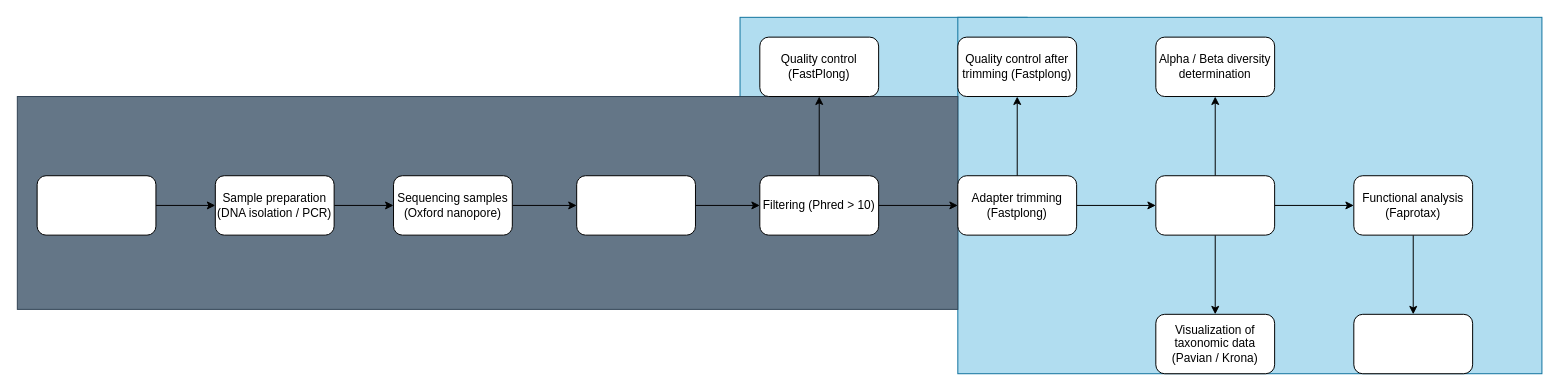
This 1559x391 diagram has some shape labels left out. Here are the shapes that lost their labels. From the top down, the centre of each, then its label:
At point 96,205: "Sample collection".
At point 635,205: "Basecalling (Dorado)".
At point 1215,205: "Taxonomic classification (Kraken2)".
At point 1413,343: "Visualization of Faprotax output".
